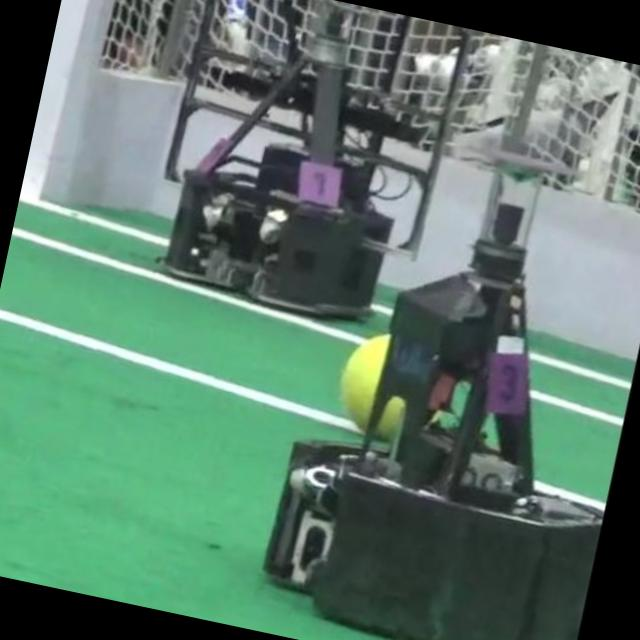ball: (340, 333, 389, 427)
goal: (20, 0, 87, 197)
robot: (264, 158, 602, 640), (165, 0, 471, 317)
